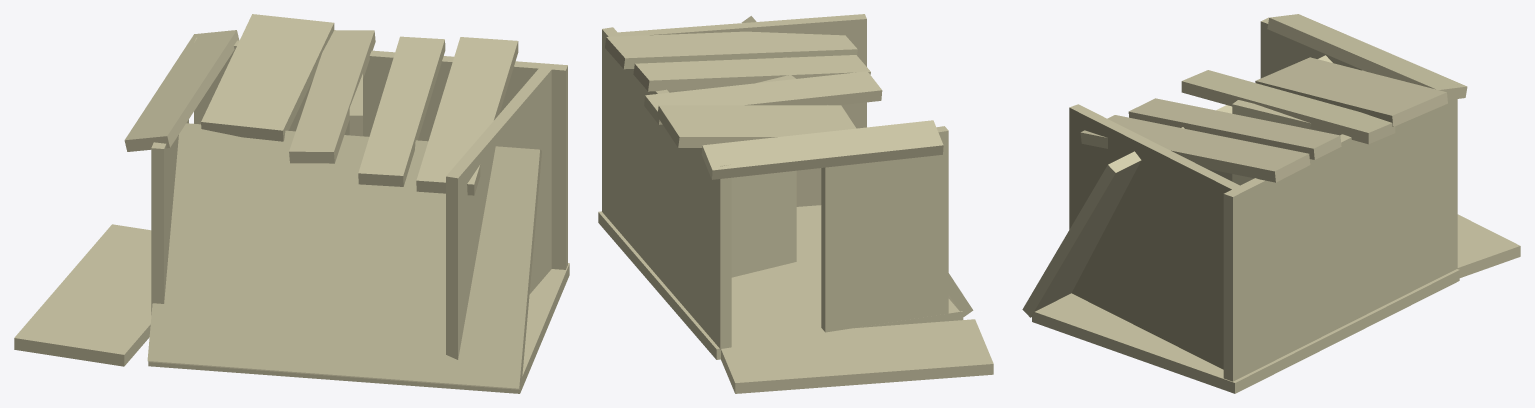
File: SM_WB_House_collision.FBX
3 views of the same model, side by side, from view 1: azimuth 30°, elevation 25°; view 2: azimuth 150°, elevation 25°; view 3: azimuth 270°, elevation 25° (orthographic). The views are drawn at different scales.
Parts seen in each view (by area): view 1: SM_WB_House; view 2: SM_WB_House; view 3: SM_WB_House.
Boxes of the visible parts, box(x1,y1,x2,y2) form: SM_WB_House: box(14, 14, 569, 393); SM_WB_House: box(598, 14, 993, 393); SM_WB_House: box(1022, 14, 1520, 393).
Size of the model in its own units: 1095 by 1033 by 481.
